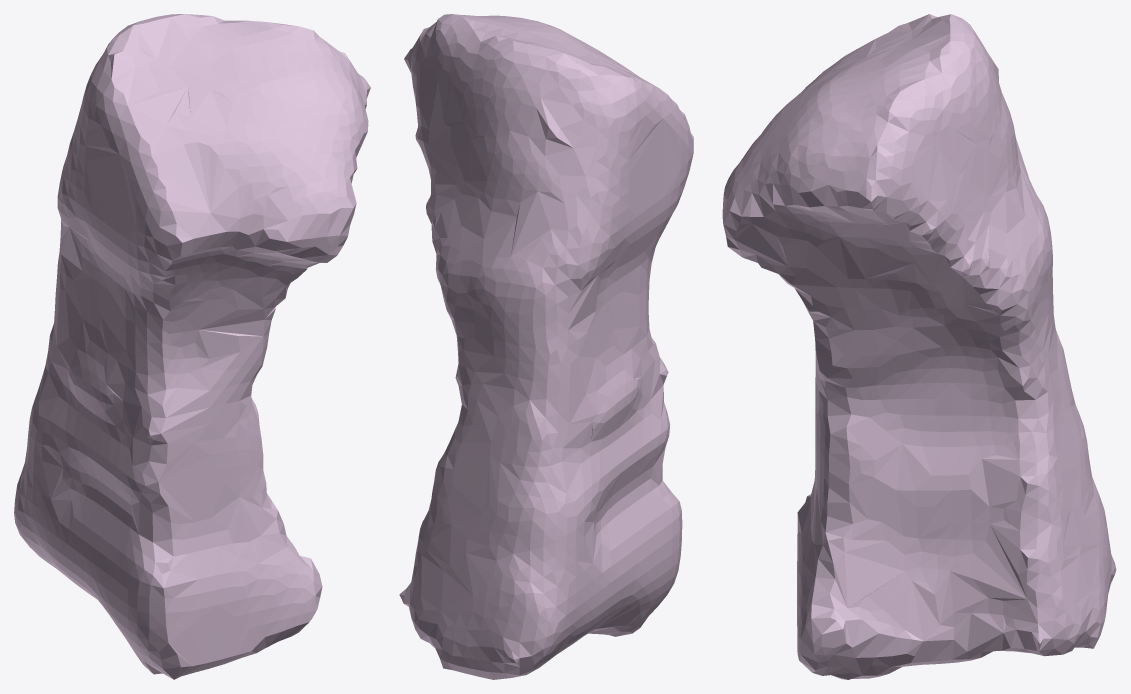
Rendered from Model_50_RH__Area_14_of_cortex__rostral_part_(A14R).obj.
The picture shows the model from 3 angles, left to right: view 1: azimuth 30°, elevation 25°; view 2: azimuth 150°, elevation 25°; view 3: azimuth 270°, elevation 25°; orthographic projection. The views are drawn at different scales.
Bounding box in the file's own units: 1.7 × 3.87 × 2.16.
